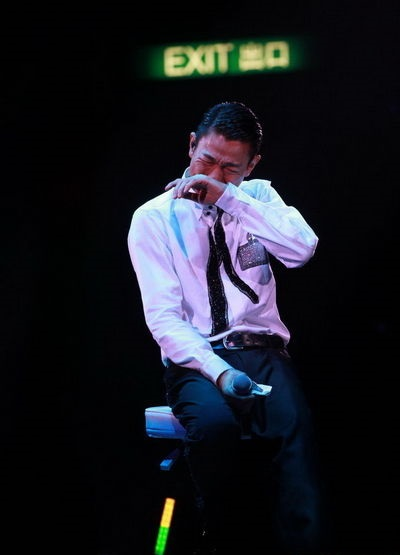face: (190, 132, 242, 205)
